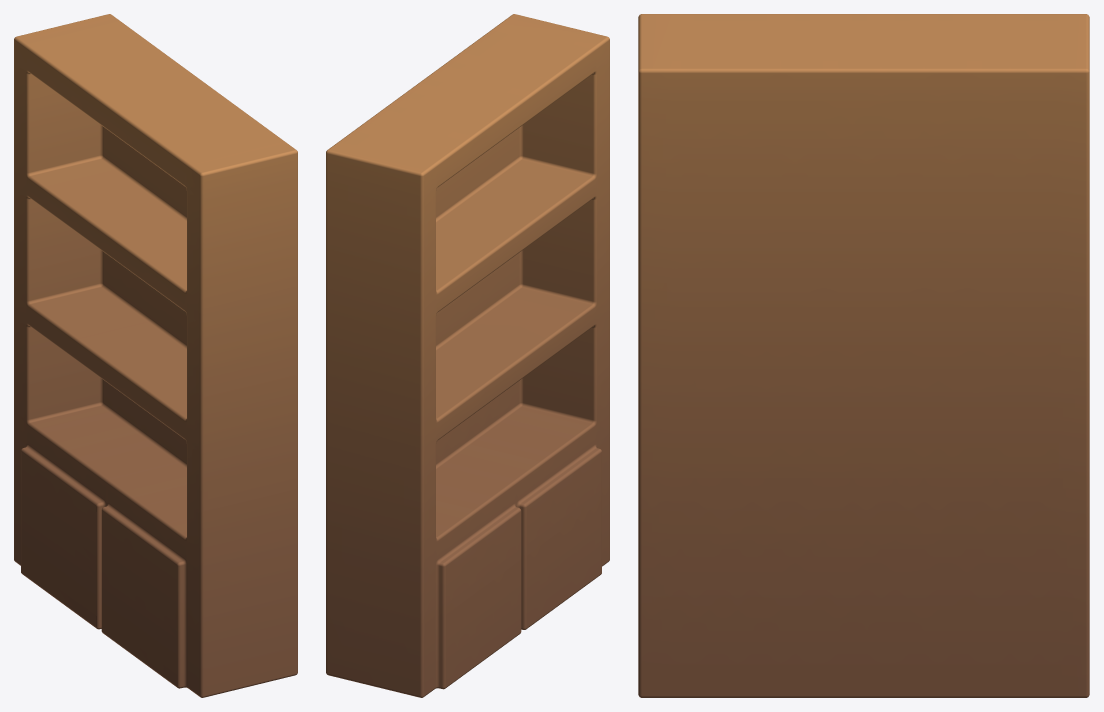
The model's file is New_Library.fbx.
3 renders of one model, left to right at view 1: azimuth 30°, elevation 25°; view 2: azimuth 150°, elevation 25°; view 3: azimuth 270°, elevation 25°, orthographic. The views are drawn at different scales.
Visible parts, largest first — view 1: pCube11; view 2: pCube11; view 3: pCube11.
Boxes of the visible parts, left/top/right/bottom form: pCube11: left=14, top=14, right=297, bottom=697; pCube11: left=326, top=14, right=609, bottom=697; pCube11: left=638, top=14, right=1089, bottom=697.
Size of the model in its own units: 83.95 by 400 by 260.
